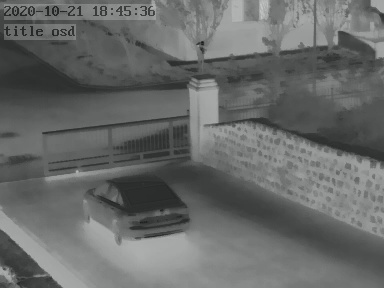vehicle: (87, 171, 193, 240)
